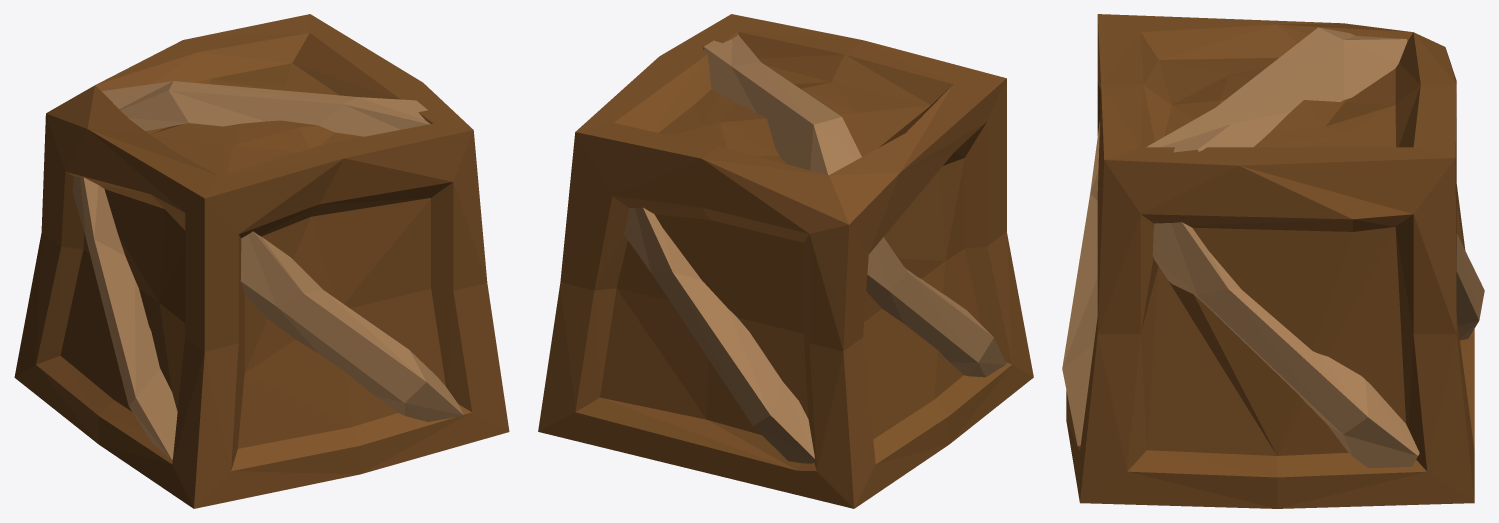
Rendered from Crate.FBX.
3 renders of one model, left to right at view 1: azimuth 30°, elevation 25°; view 2: azimuth 150°, elevation 25°; view 3: azimuth 270°, elevation 25°, orthographic. The views are drawn at different scales.
Visible parts, largest first — view 1: Crate; view 2: Crate; view 3: Crate.
Part boxes in pixels (x1=…): Crate: x1=14, y1=14, x2=509, y2=508; Crate: x1=538, y1=14, x2=1033, y2=508; Crate: x1=1062, y1=14, x2=1484, y2=508.
Size of the model in its own units: 1.19 by 1.11 by 1.18.
1 material, 1 textured.
